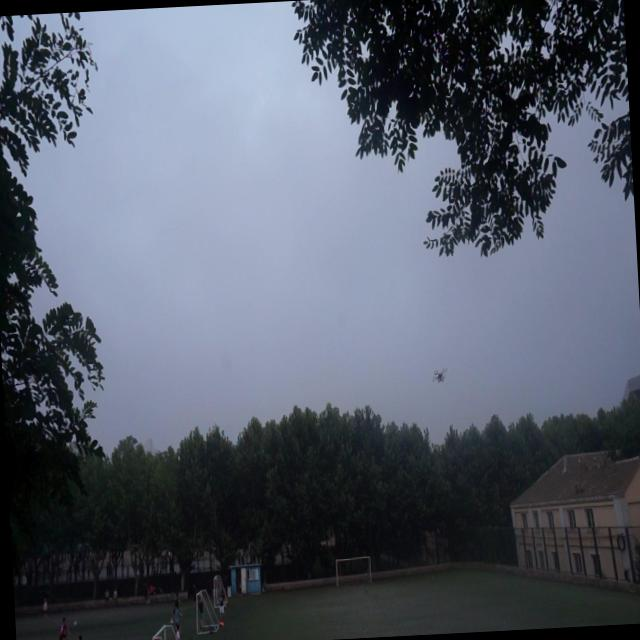drone: (428, 363, 448, 388)
